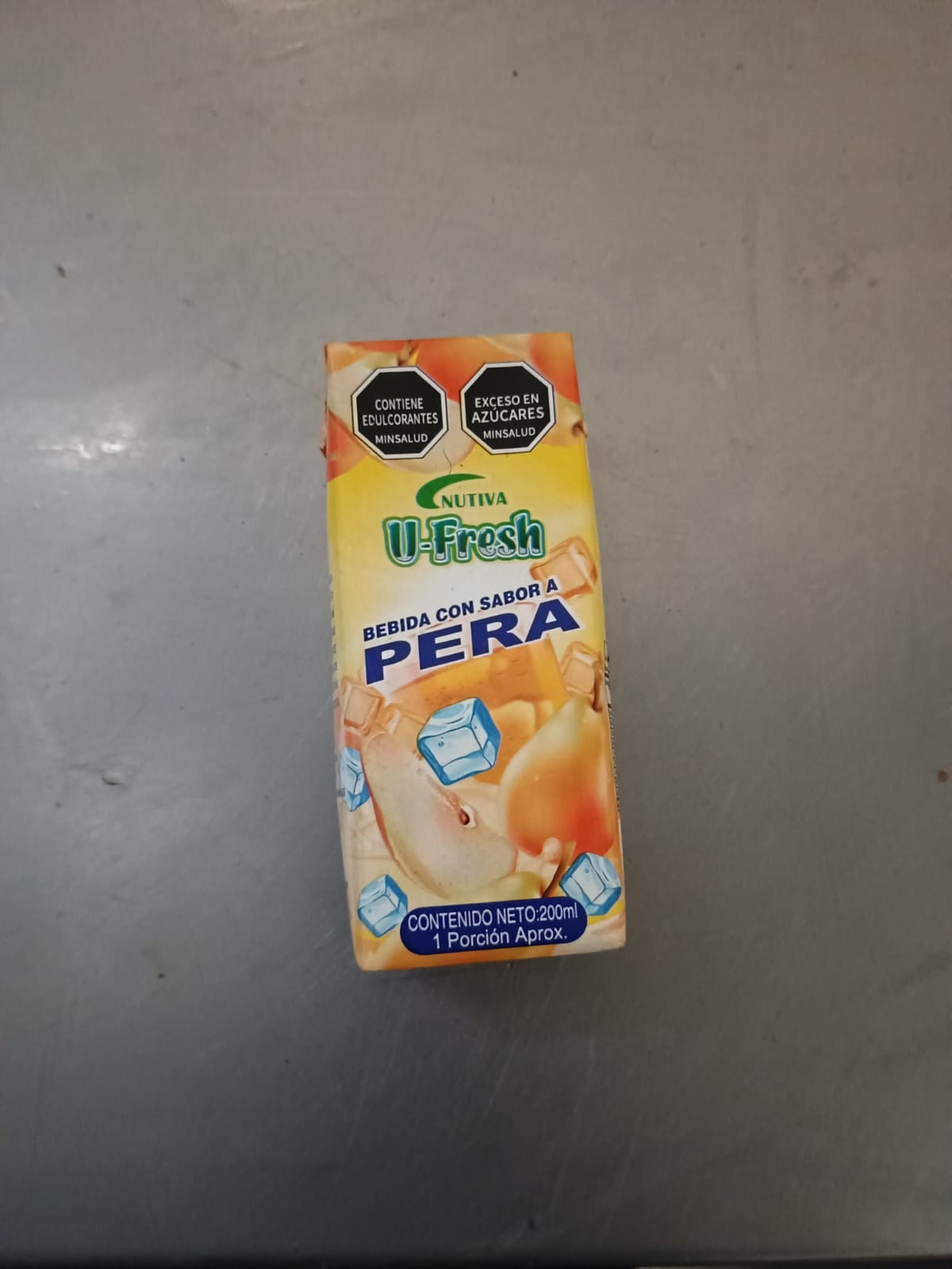Carton: (329, 331, 625, 970)
